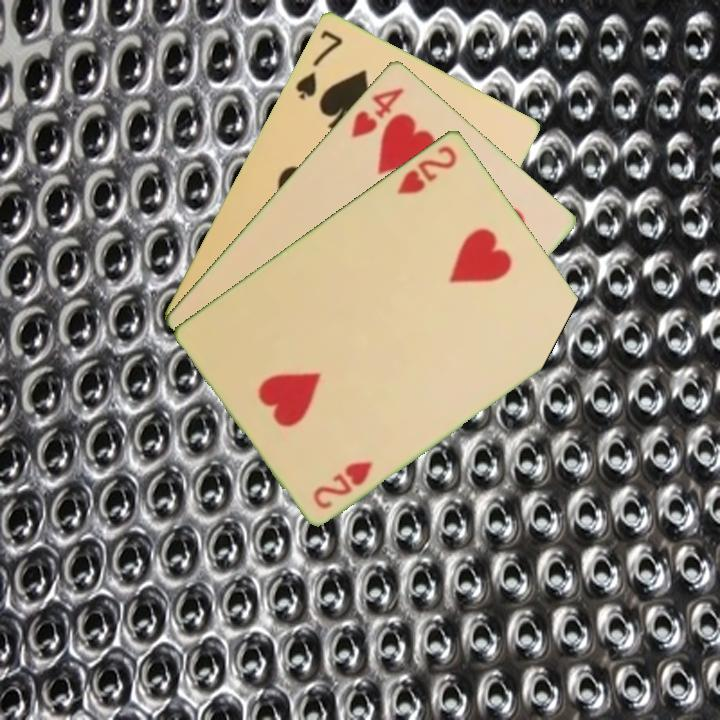2h: (393, 141, 460, 197), (309, 456, 376, 512)
4h: (347, 83, 407, 141)
7s: (291, 26, 346, 102)
